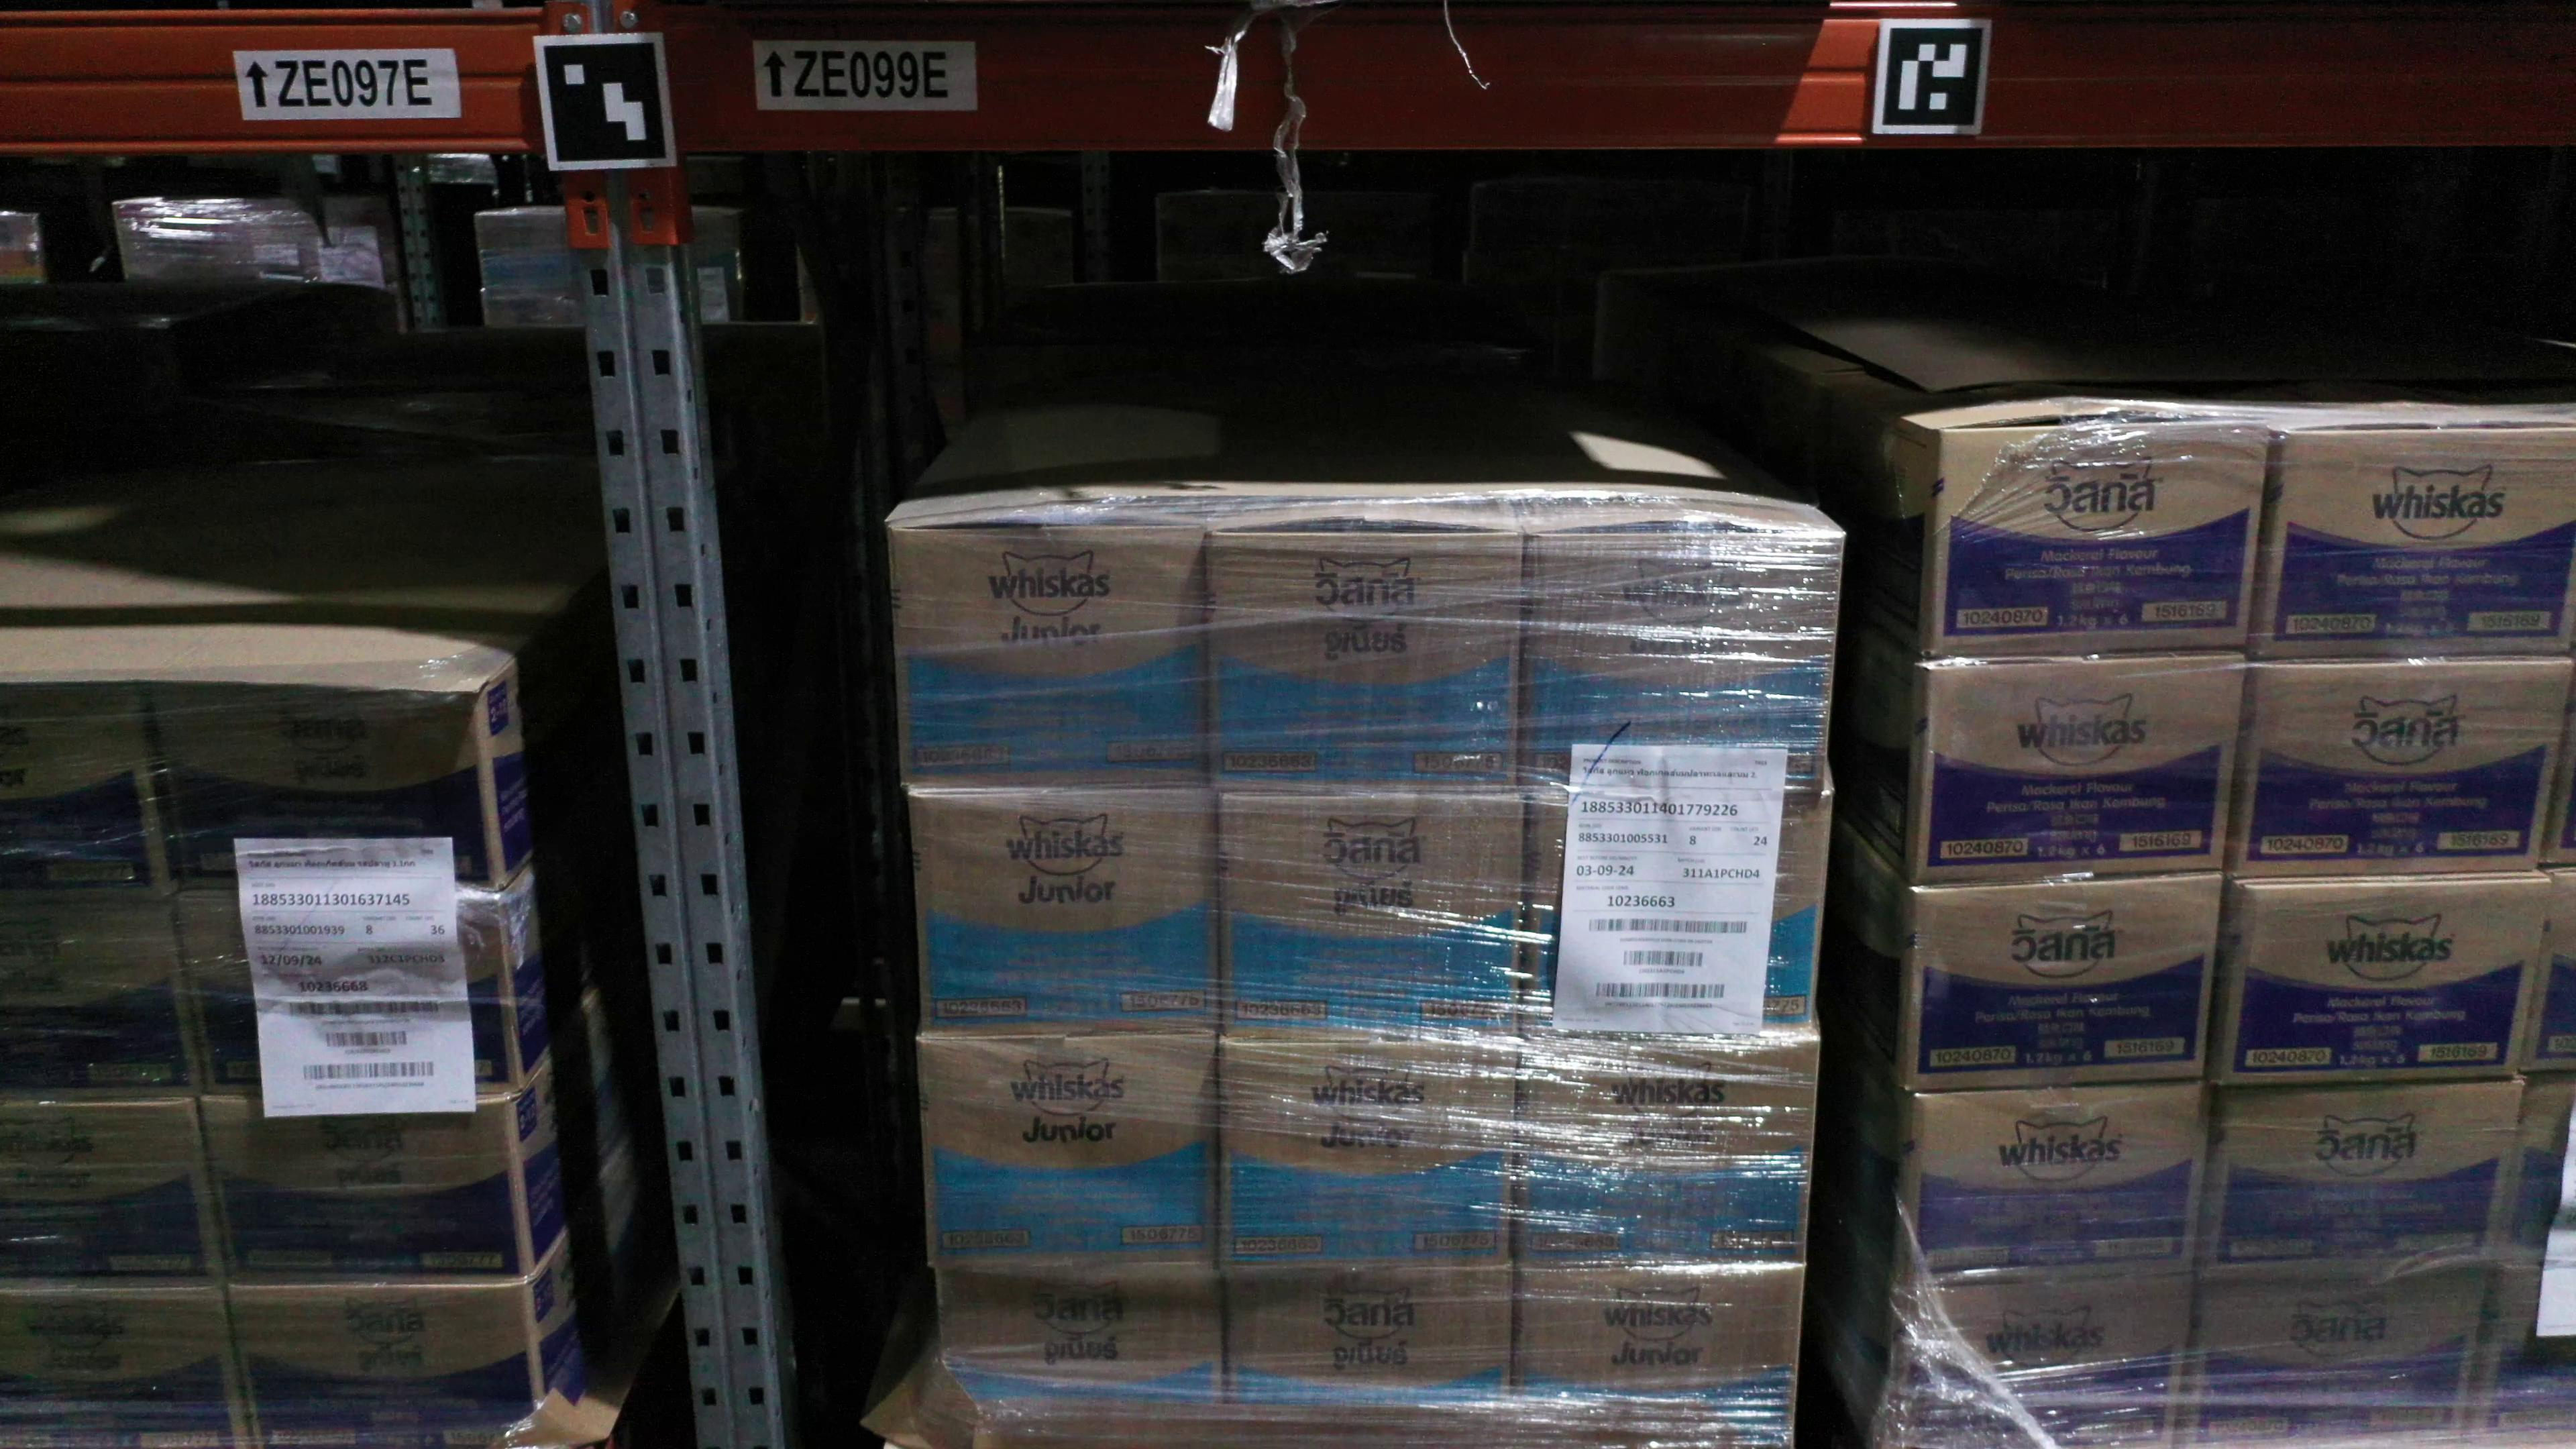-: (890, 525, 1212, 794), (1523, 533, 1845, 800), (1205, 527, 1525, 794), (1927, 425, 2272, 658), (1217, 789, 1525, 1044), (1518, 794, 1833, 1042), (913, 786, 1223, 1037), (147, 676, 506, 892), (2231, 658, 2576, 883), (1914, 655, 2249, 886), (2263, 430, 2576, 667), (2217, 876, 2551, 1090), (1219, 1035, 1520, 1272), (1511, 1040, 1821, 1270), (177, 892, 524, 1095), (916, 1040, 1219, 1272), (1907, 872, 2222, 1092), (1904, 1079, 2210, 1293), (2203, 1079, 2523, 1279), (196, 1102, 533, 1288), (2183, 1270, 2491, 1449), (1514, 1269, 1808, 1449), (223, 1281, 533, 1449), (1895, 1277, 2196, 1449), (0, 1095, 230, 1290), (0, 1286, 257, 1449), (0, 897, 202, 1104), (1223, 1270, 1511, 1414), (934, 1270, 1226, 1408), (0, 678, 170, 901), (2472, 1269, 2576, 1449), (2498, 1069, 2576, 1272), (2525, 876, 2576, 1076)
